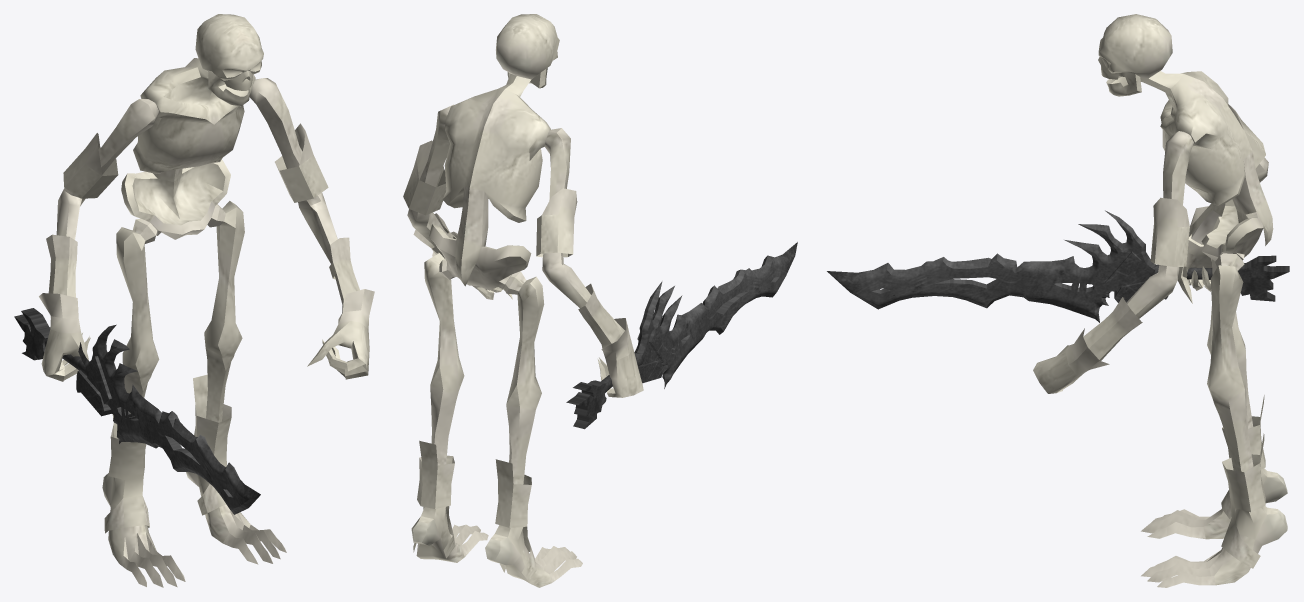
File: SkeletonEnemy.glb
The picture shows the model from 3 angles, left to right: view 1: azimuth 30°, elevation 25°; view 2: azimuth 150°, elevation 25°; view 3: azimuth 270°, elevation 25°; orthographic projection. The views are drawn at different scales.
Visible parts, largest first — view 1: Object_3, Object_2; view 2: Object_3, Object_2; view 3: Object_3, Object_2.
Part boxes in pixels (x1,y1,x2,y2): Object_3: (39,14,374,587); Object_2: (14,308,260,514); Object_3: (403,14,643,587); Object_2: (566,242,797,429); Object_3: (1033,14,1287,587); Object_2: (827,210,1289,322).
Size of the model in its own units: 8.37 by 16.31 by 12.75.
2 materials, 2 textured.
